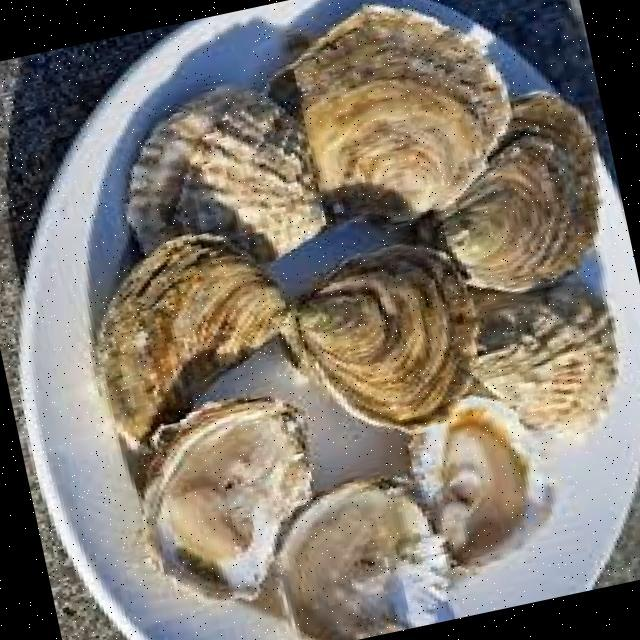Oyster-Closed: (270, 6, 500, 222), (98, 235, 285, 438), (128, 89, 326, 261), (299, 245, 476, 423), (444, 92, 596, 291), (470, 271, 616, 429)
Oyster-Open: (144, 398, 312, 594), (276, 482, 452, 640), (409, 396, 552, 564)
